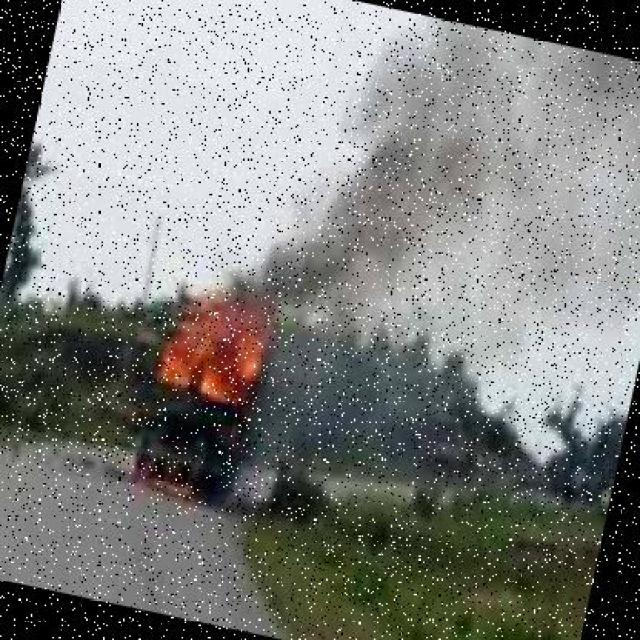fire: (134, 274, 295, 426)
